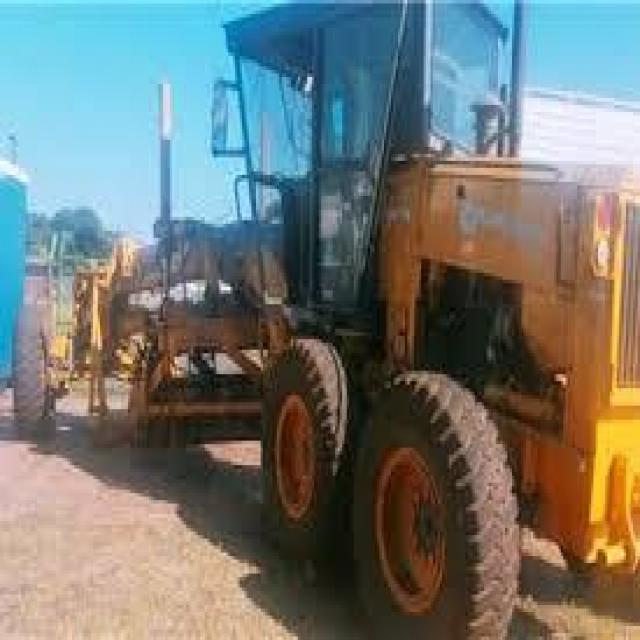Grader: (5, 0, 638, 623)
